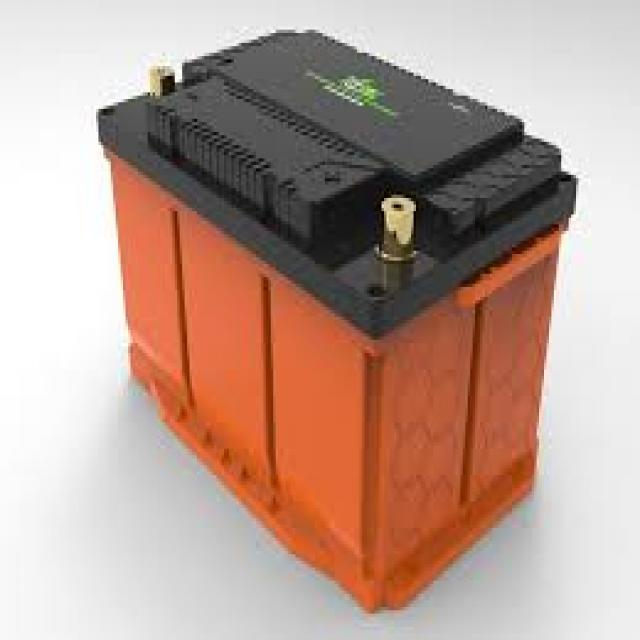non-organic waste: (97, 19, 574, 612)
